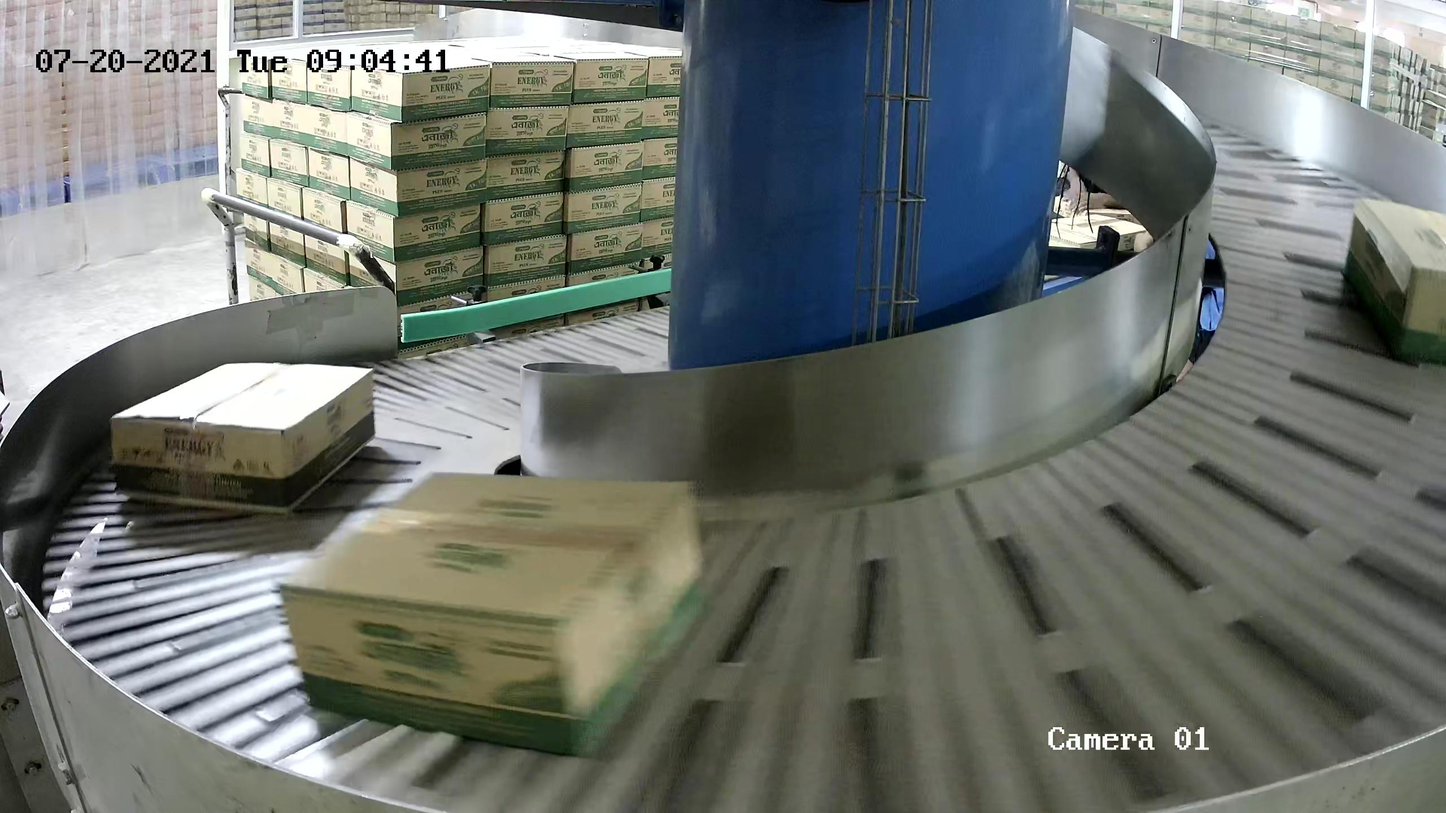Box: (276, 469, 710, 757), (111, 360, 376, 516), (1342, 197, 1446, 364)
